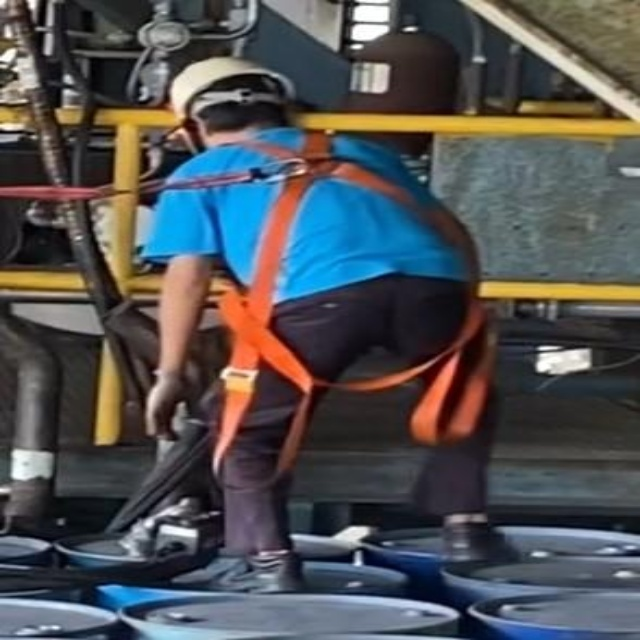Arnes_seguridad: (188, 131, 489, 452)
